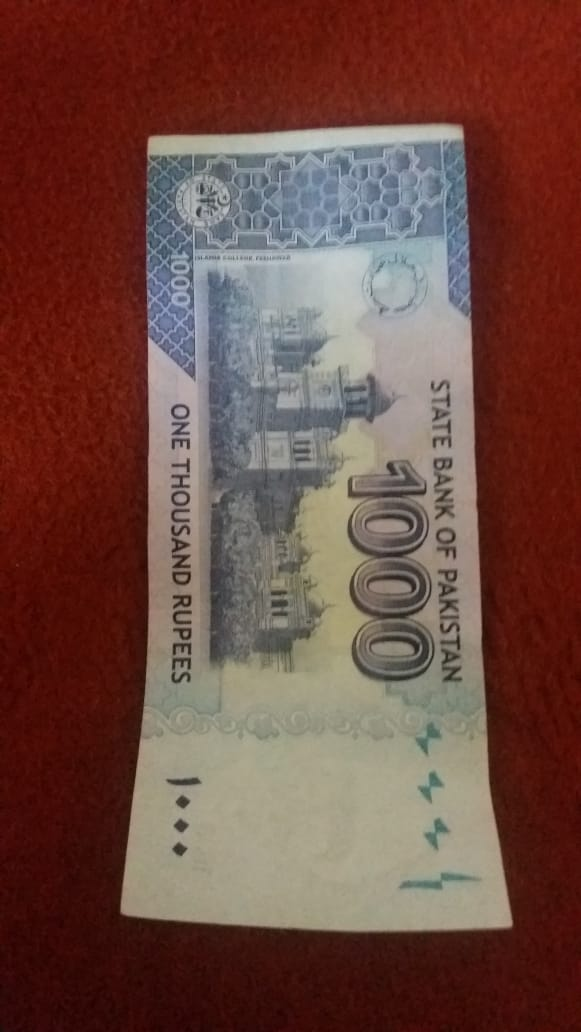1000 rupee: (97, 116, 514, 951)
